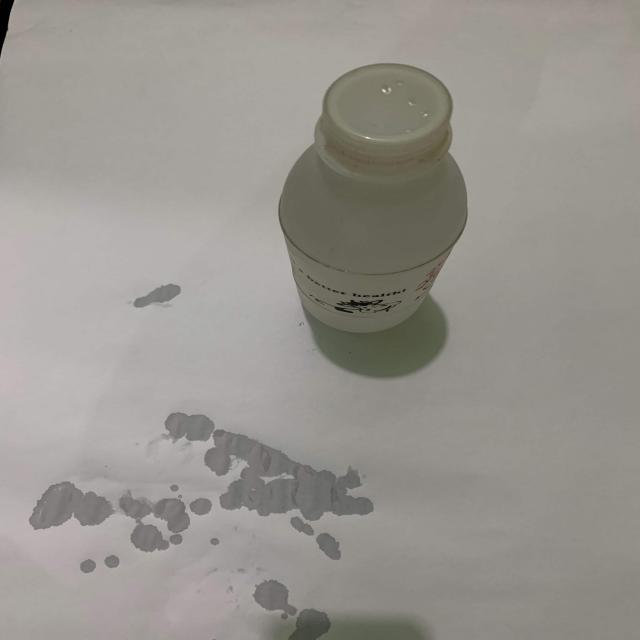bottle: (265, 49, 490, 353)
